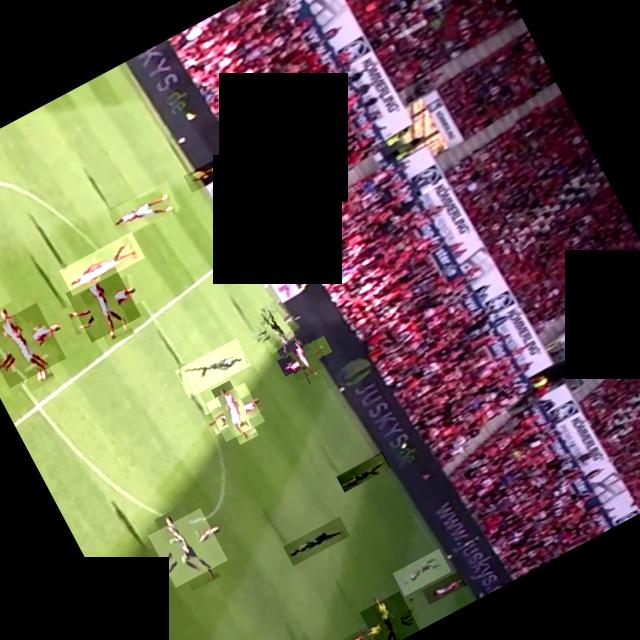goalkeeper: (182, 152, 237, 192)
referee: (359, 591, 419, 640)
soccer-player: (147, 508, 227, 588), (64, 266, 140, 342), (0, 302, 64, 388), (58, 232, 144, 296), (105, 180, 181, 240), (174, 338, 250, 398), (204, 382, 264, 442), (246, 298, 304, 356), (282, 517, 348, 566), (391, 548, 450, 596), (278, 332, 328, 382), (336, 452, 390, 492), (420, 570, 466, 604), (301, 626, 378, 640)
